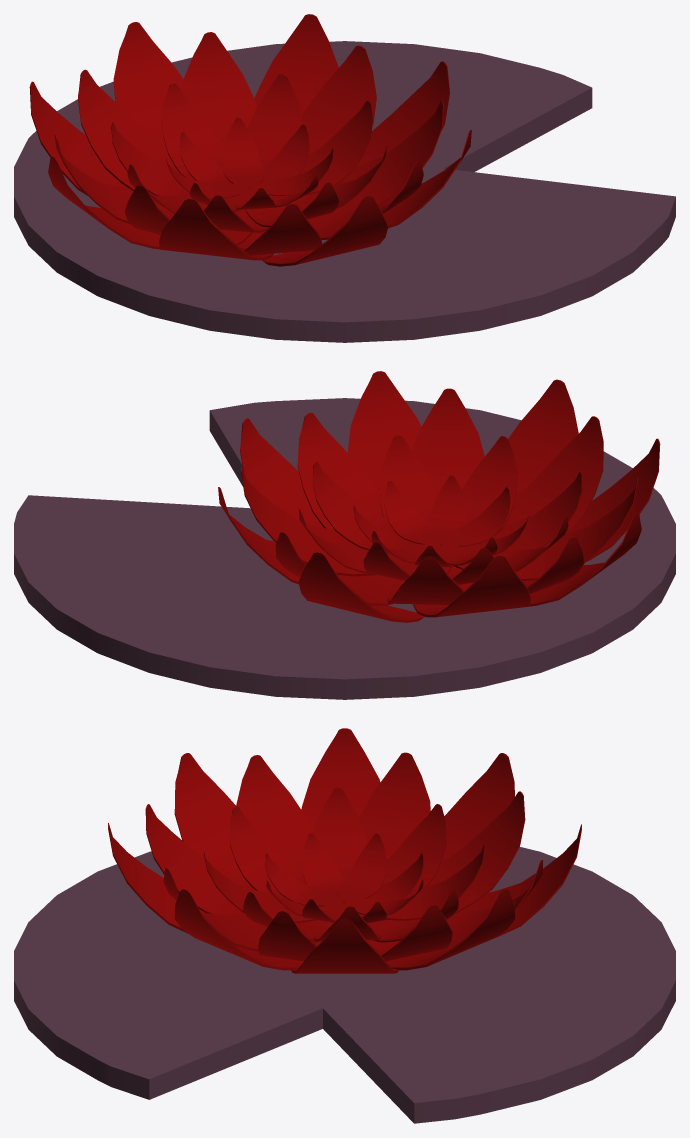
The model's file is lily.fbx.
3 renders of one model, top to bottom at view 1: azimuth 30°, elevation 25°; view 2: azimuth 150°, elevation 25°; view 3: azimuth 270°, elevation 25°, orthographic.
Parts seen in each view (by area): view 1: lilypad, petal16, petal17, petal18, petal2, petal4, petal7, petal, petal6, petal3, petal1, petal5; view 2: lilypad, petal16, petal17, petal18, petal5, petal3, petal, petal7, petal2, petal6, petal1, petal4; view 3: lilypad, petal16, petal17, petal18, petal6, petal1, petal7, petal, petal2, petal4, petal5, petal3.
Part boxes in pixels (left/top/right/bottom): lilypad: left=14, top=41, right=675, bottom=342; petal16: left=54, top=32, right=443, bottom=255; petal17: left=111, top=74, right=386, bottom=232; petal18: left=166, top=117, right=333, bottom=210; petal2: left=113, top=22, right=183, bottom=144; petal4: left=254, top=14, right=338, bottom=114; petal7: left=29, top=81, right=128, bottom=195; petal: left=356, top=61, right=449, bottom=166; petal6: left=159, top=199, right=273, bottom=260; petal3: left=262, top=196, right=387, bottom=266; petal1: left=48, top=156, right=160, bottom=249; petal5: left=381, top=130, right=471, bottom=228; lilypad: left=14, top=398, right=675, bottom=699; petal16: left=241, top=388, right=638, bottom=605; petal17: left=298, top=435, right=582, bottom=584; petal18: left=353, top=475, right=528, bottom=567; petal5: left=347, top=371, right=421, bottom=488; petal3: left=508, top=379, right=578, bottom=494; petal: left=240, top=418, right=323, bottom=527; petal7: left=413, top=556, right=530, bottom=617; petal2: left=298, top=552, right=424, bottom=622; petal6: left=565, top=438, right=660, bottom=561; petal1: left=530, top=513, right=641, bottom=606; petal4: left=218, top=487, right=306, bottom=584; lilypad: left=14, top=847, right=675, bottom=1123; petal16: left=145, top=752, right=542, bottom=961; petal17: left=203, top=787, right=484, bottom=942; petal18: left=265, top=833, right=423, bottom=923; petal6: left=174, top=753, right=248, bottom=883; petal1: left=301, top=728, right=380, bottom=829; petal7: left=441, top=753, right=514, bottom=861; petal: left=291, top=918, right=398, bottom=973; petal2: left=461, top=824, right=581, bottom=937; petal4: left=386, top=889, right=515, bottom=970; petal5: left=174, top=889, right=303, bottom=970; petal3: left=108, top=823, right=204, bottom=933.
Size of the model in its own units: 5.58 by 1.1 by 5.59.
